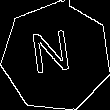N_S: (33, 29, 79, 84)
